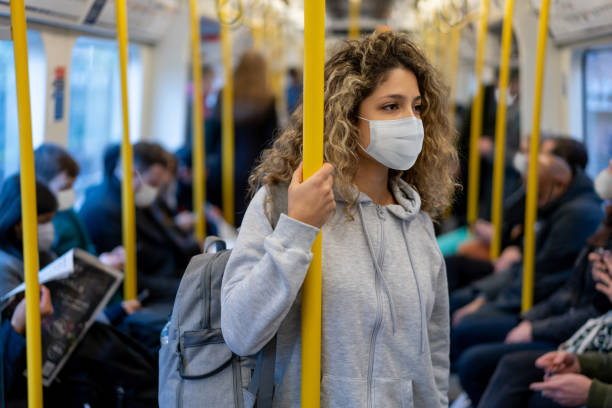with mask: (343, 61, 445, 177)
